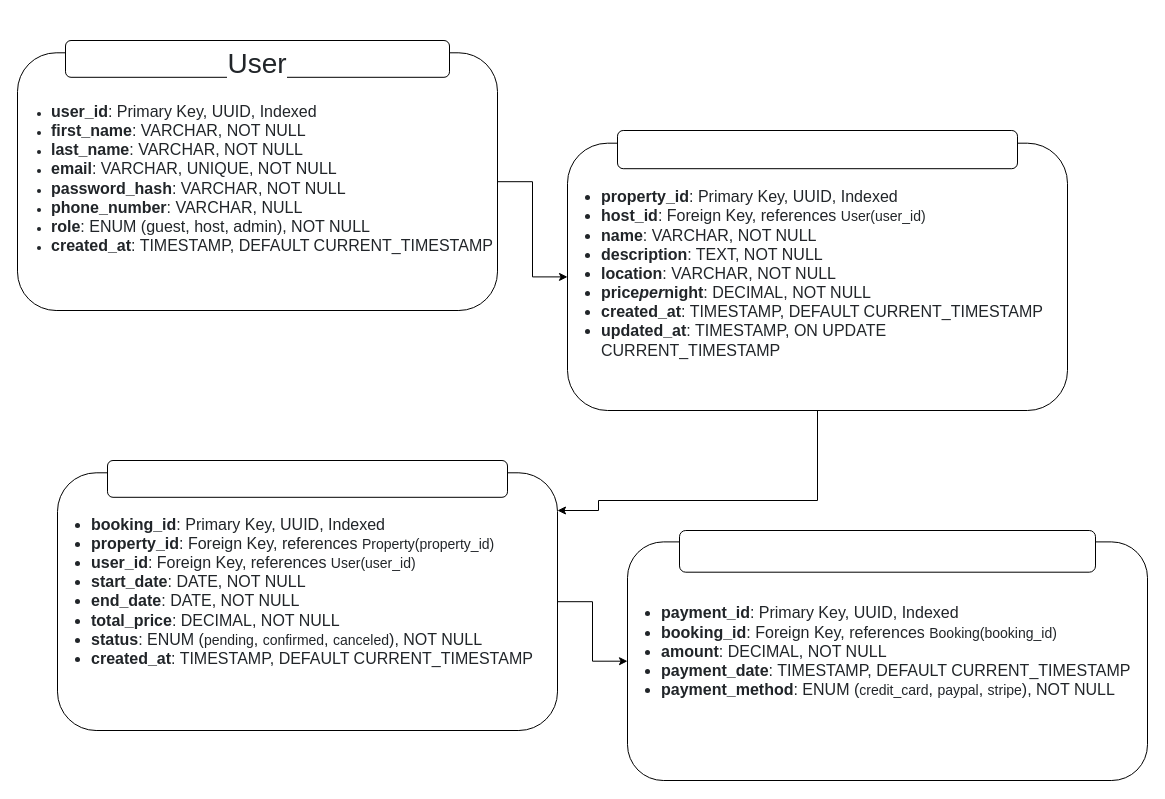
This 1165x799 diagram has some shape labels left out. The shapes that lost their labels are listed below. From the top down, each one's box as (x1, y1, x2, y2) in pixels, then its label:
(616, 130, 1018, 169): Property
(106, 460, 508, 497): Booking
(678, 530, 1096, 572): Payment
